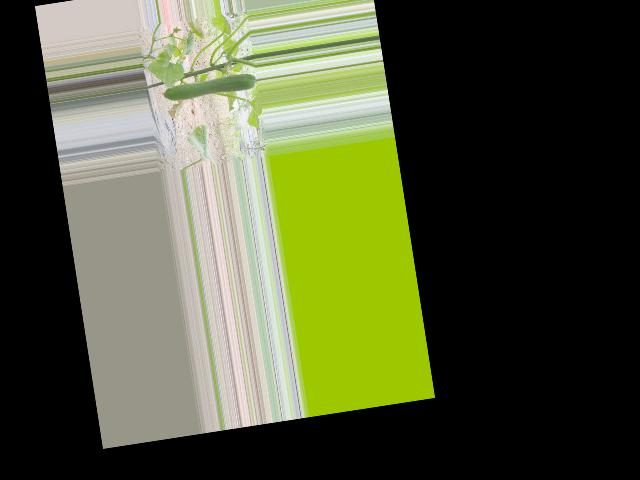cucumber: (159, 72, 256, 103)
